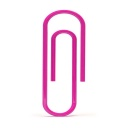Metal: (33, 1, 92, 120)
